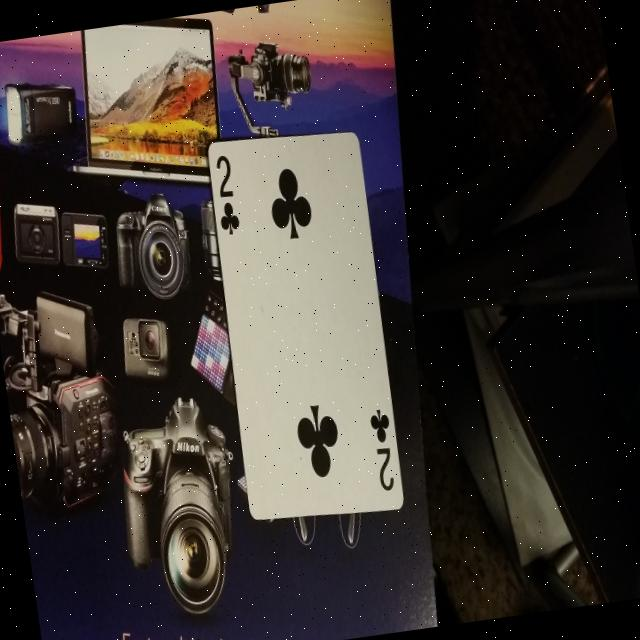2c: (361, 392, 408, 513), (208, 150, 250, 252)
